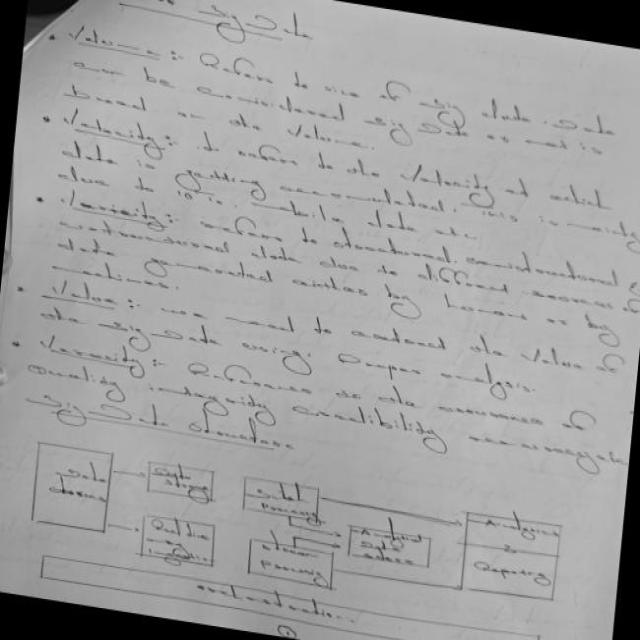Figure Detection - v3 Dataset Version2: (6, 423, 585, 640)
